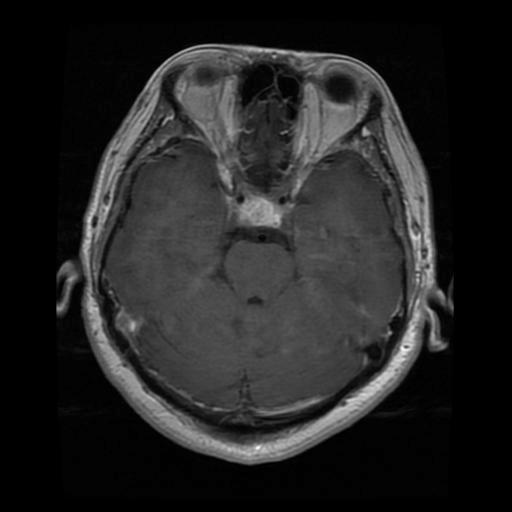Tumour-Pituitary: (230, 193, 294, 230)
